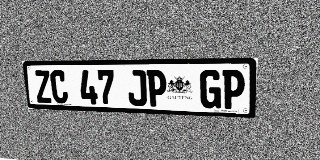4: (79, 70, 98, 105)
7: (96, 70, 116, 105)
C: (49, 70, 69, 104)
G: (200, 70, 222, 109)
J: (127, 70, 147, 106)
P: (222, 70, 245, 109), (147, 70, 167, 107)
Z: (34, 70, 53, 103)
